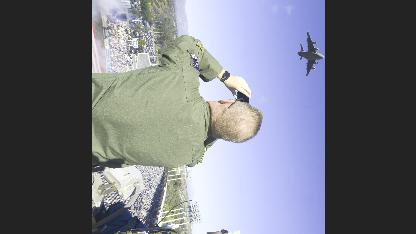C2: (296, 31, 324, 74)
